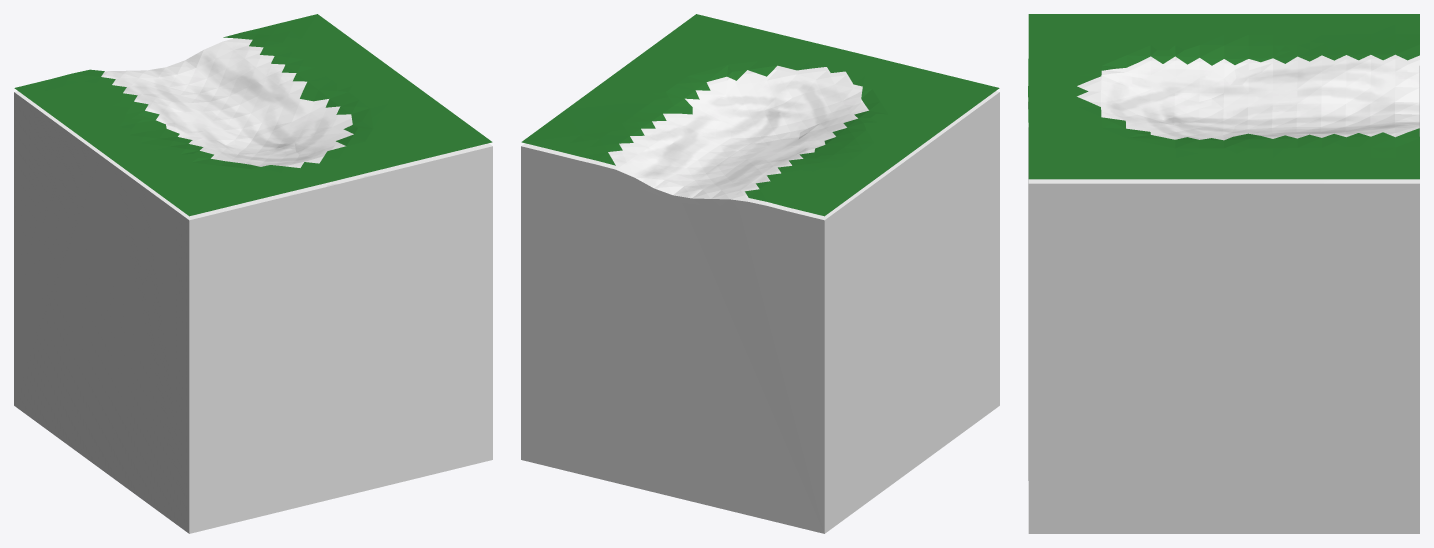
File: PathEnd.glb
The picture shows the model from 3 angles, left to right: view 1: azimuth 30°, elevation 25°; view 2: azimuth 150°, elevation 25°; view 3: azimuth 270°, elevation 25°; orthographic projection. The views are drawn at different scales.
Visible parts, largest first — view 1: PathEnd, PathEndGrass; view 2: PathEnd, PathEndGrass; view 3: PathEnd, PathEndGrass.
Boxes of the visible parts, bbox=[...] form: PathEnd: bbox=[14, 38, 492, 533]; PathEndGrass: bbox=[14, 14, 492, 216]; PathEnd: bbox=[521, 65, 999, 533]; PathEndGrass: bbox=[521, 14, 999, 216]; PathEnd: bbox=[1028, 54, 1419, 533]; PathEndGrass: bbox=[1028, 14, 1419, 179].
Size of the model in its own units: 2 by 2.01 by 2.
2 materials, 1 textured.
